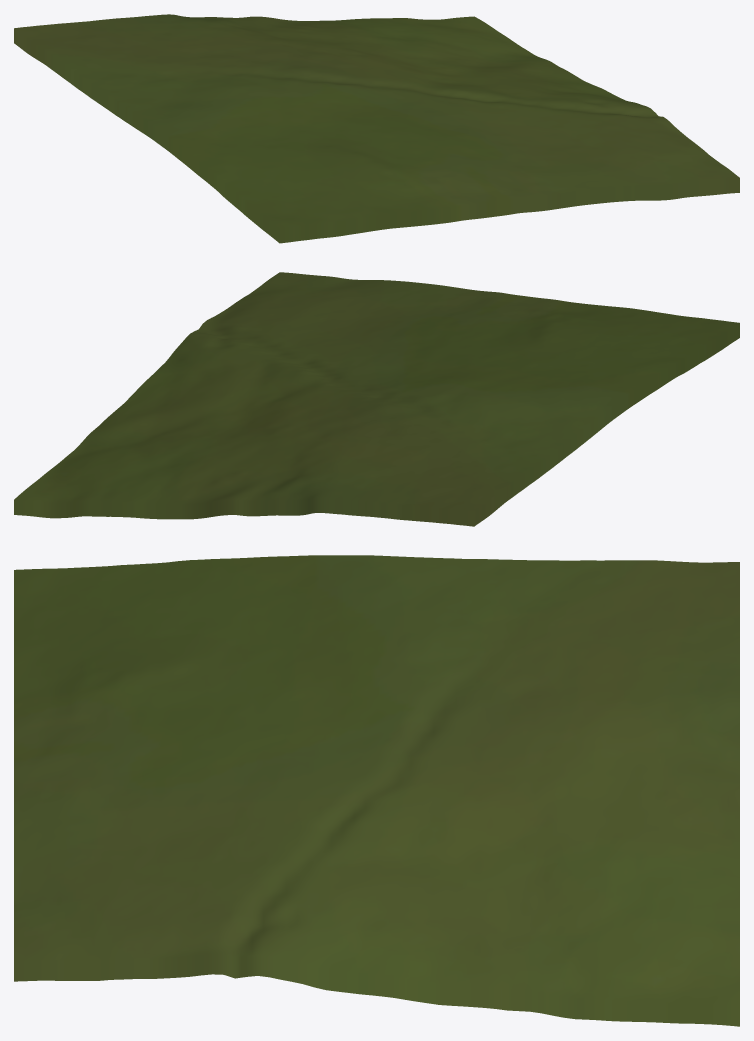
The model's file is terrain_6_-14.glb.
3 views of the same model, one above another, from view 1: azimuth 30°, elevation 25°; view 2: azimuth 150°, elevation 25°; view 3: azimuth 270°, elevation 25° (orthographic). The views are drawn at different scales.
Parts seen in each view (by area): view 1: terrain_6_-14; view 2: terrain_6_-14; view 3: terrain_6_-14.
Part boxes in pixels (x1,y1,x2,y2): terrain_6_-14: (14,14,739,243); terrain_6_-14: (14,272,739,526); terrain_6_-14: (14,555,739,1026).
Size of the model in its own units: 256 by 64.12 by 256.
